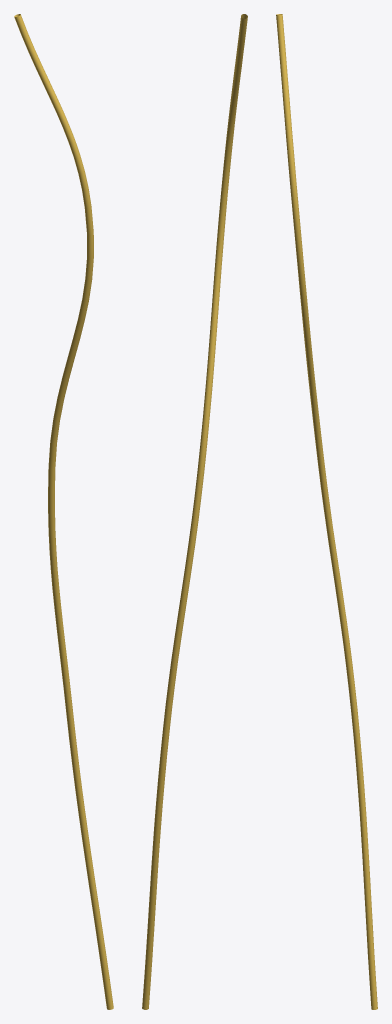
The model's file is Posterior_branch_obturator_nerve_left.glb.
3 renders of one model, left to right at view 1: azimuth 30°, elevation 25°; view 2: azimuth 150°, elevation 25°; view 3: azimuth 330°, elevation 25°, orthographic. The views are drawn at different scales.
Parts seen in each view (by area): view 1: Posterior_branch_of_obturator_nerve.l_BezierCurve.489; view 2: Posterior_branch_of_obturator_nerve.l_BezierCurve.489; view 3: Posterior_branch_of_obturator_nerve.l_BezierCurve.489.
Part boxes in pixels (x1,y1,x2,y2): Posterior_branch_of_obturator_nerve.l_BezierCurve.489: (14, 14, 113, 1009); Posterior_branch_of_obturator_nerve.l_BezierCurve.489: (142, 14, 247, 1009); Posterior_branch_of_obturator_nerve.l_BezierCurve.489: (276, 14, 377, 1009).
Bounding box in the file's own units: 0.0166 × 0.159 × 0.0121.
